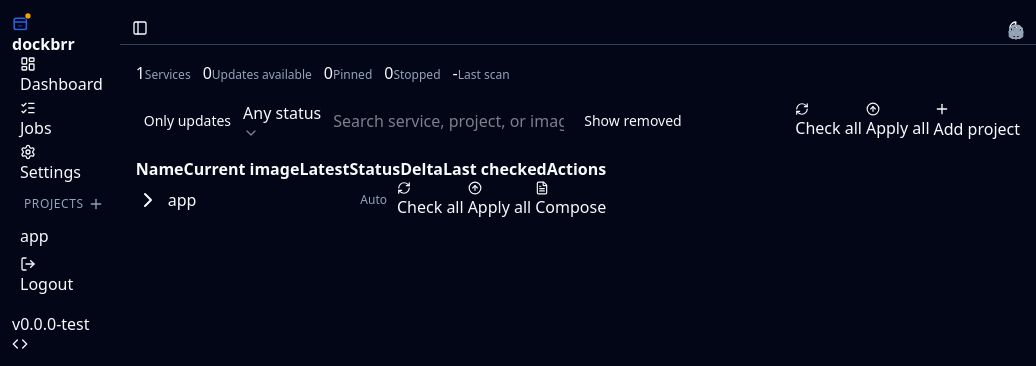
Test case: shows last-checked time and a warning for rate-limited services
Click the button "app" at [166, 200], box [136, 188, 196, 212]
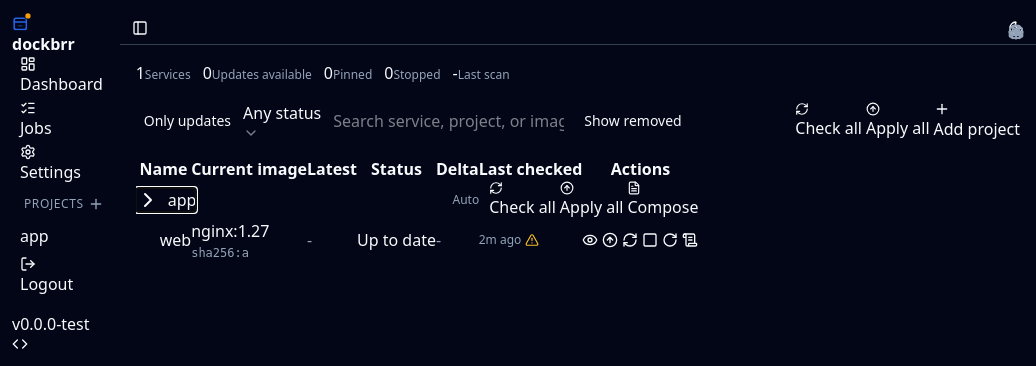
expect the link "web" is shown: met, box [160, 228, 191, 252]
expect the text "2m ago" is shown: met, box [479, 231, 539, 248]
expect the icon named "Registry rate-limited" is shown: met, box [525, 233, 539, 247]
